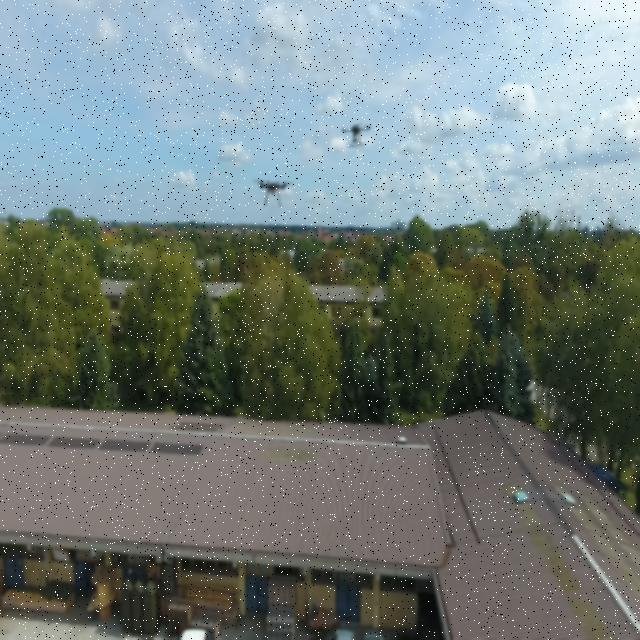UAV: (248, 174, 299, 208), (341, 119, 373, 154)
